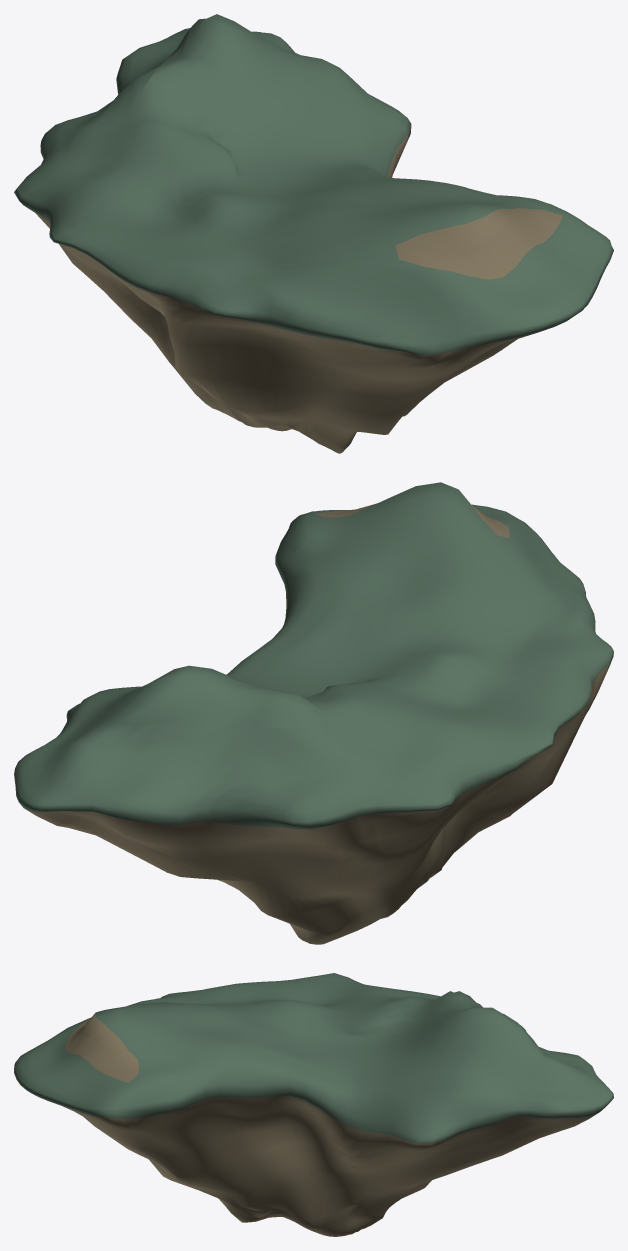
Rendered from skyland_small_1.fbx.
3 views of the same model, one above another, from view 1: azimuth 30°, elevation 25°; view 2: azimuth 150°, elevation 25°; view 3: azimuth 270°, elevation 25° (orthographic). The views are drawn at different scales.
Visible parts, largest first — view 1: island_2; view 2: island_2; view 3: island_2.
Part boxes in pixels (left/top/right/bottom): island_2: left=14, top=14, right=613, bottom=453; island_2: left=14, top=482, right=613, bottom=944; island_2: left=14, top=973, right=613, bottom=1236.
Size of the model in its own units: 1556 by 1165 by 2615.
